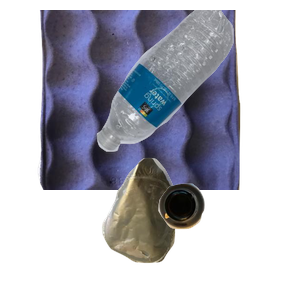glass: (156, 181, 300, 300)
paper: (35, 10, 268, 190)
plastic: (94, 10, 300, 154)
trash: (99, 155, 268, 300)
